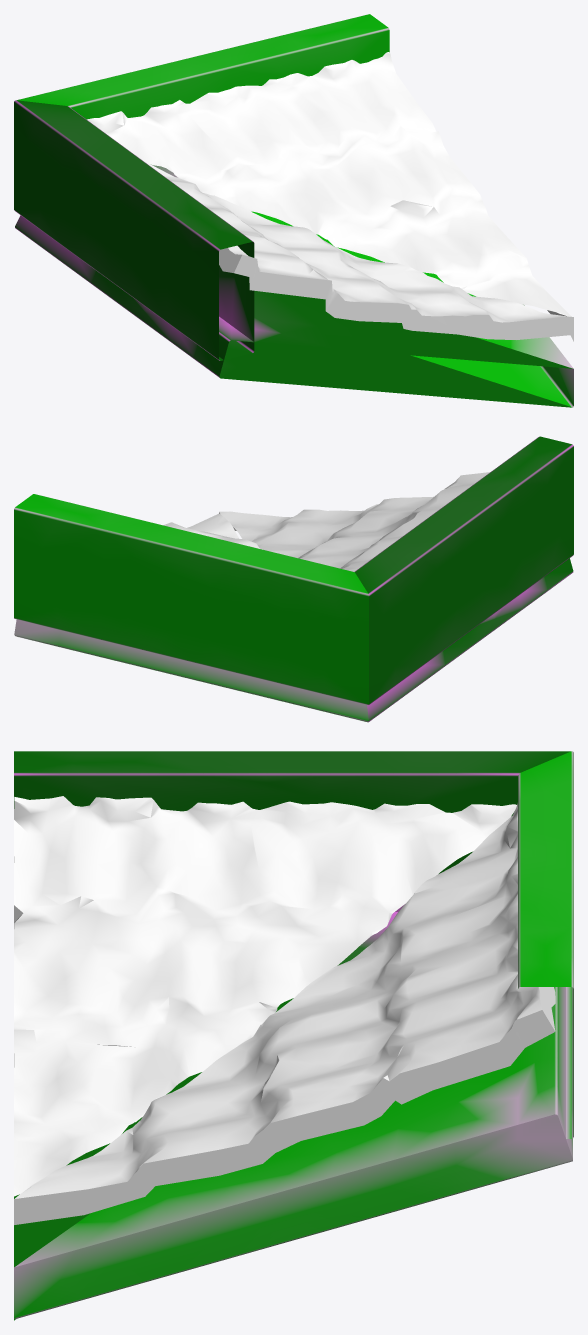
Rendered from roof_fenced_inner_corner_01.fbx.
3 views of the same model, one above another, from view 1: azimuth 30°, elevation 25°; view 2: azimuth 150°, elevation 25°; view 3: azimuth 270°, elevation 25° (orthographic). The views are drawn at different scales.
Visible parts, largest first — view 1: roof_fenced_inner_corner_01; view 2: roof_fenced_inner_corner_01; view 3: roof_fenced_inner_corner_01.
Part boxes in pixels (x1,y1,x2,y2): roof_fenced_inner_corner_01: [14, 14, 573, 407]; roof_fenced_inner_corner_01: [14, 436, 573, 722]; roof_fenced_inner_corner_01: [14, 751, 573, 1320].
Size of the model in its own units: 1 by 0.6579 by 1.
